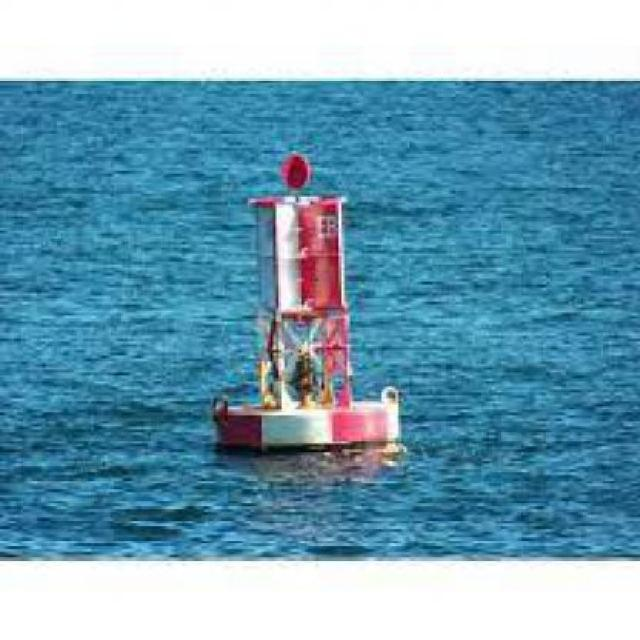buoy: (200, 123, 411, 457)
